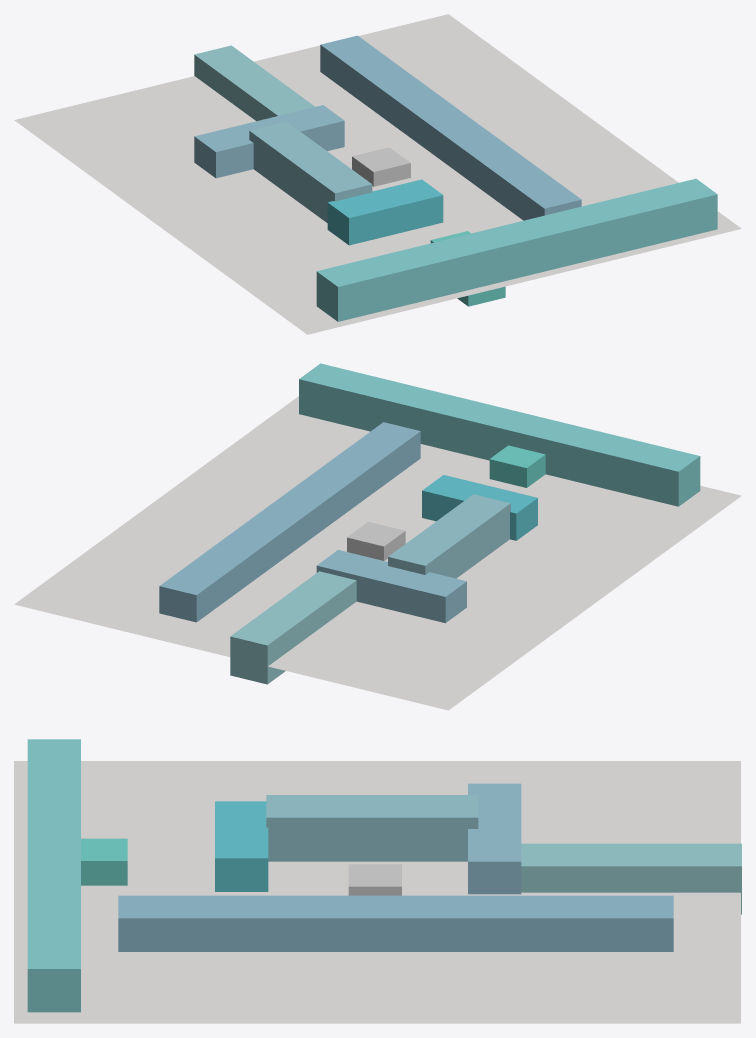
3 views of the same model, one above another, from view 1: azimuth 30°, elevation 25°; view 2: azimuth 150°, elevation 25°; view 3: azimuth 270°, elevation 25° (orthographic). The views are drawn at different scales.
Parts seen in each view (by area): view 1: Plane, Cube_007, Cube_004, Cube_001, Cube_003, Cube_005, Cube_002, Cube, Cube_006; view 2: Plane, Cube_007, Cube_004, Cube_005, Cube_001, Cube_002, Cube_003, Cube_006, Cube; view 3: Plane, Cube_004, Cube_007, Cube_001, Cube_005, Cube_002, Cube_003, Cube_006, Cube.
Boxes of the visible parts, x1,y1,x2,y2 form: Plane: [14, 14, 741, 334]; Cube_007: [316, 178, 717, 321]; Cube_004: [320, 35, 581, 220]; Cube_001: [249, 121, 372, 222]; Cube_003: [327, 179, 443, 245]; Cube_005: [194, 45, 314, 121]; Cube_002: [194, 105, 344, 178]; Cube: [352, 147, 410, 186]; Cube_006: [430, 231, 505, 306]; Plane: [14, 396, 741, 710]; Cube_007: [299, 363, 700, 506]; Cube_004: [159, 422, 420, 622]; Cube_005: [230, 571, 356, 684]; Cube_001: [388, 494, 510, 578]; Cube_002: [316, 550, 466, 623]; Cube_003: [422, 475, 537, 540]; Cube_006: [489, 445, 545, 487]; Cube: [347, 521, 405, 560]; Plane: [14, 761, 740, 1023]; Cube_004: [118, 895, 673, 951]; Cube_007: [27, 739, 80, 1012]; Cube_001: [266, 795, 478, 861]; Cube_005: [521, 843, 741, 914]; Cube_002: [468, 783, 521, 894]; Cube_003: [215, 801, 268, 891]; Cube_006: [81, 838, 127, 885]; Cube: [348, 864, 401, 895].
Bounding box in the file's own units: 23.32 × 27.31 × 3.06.
